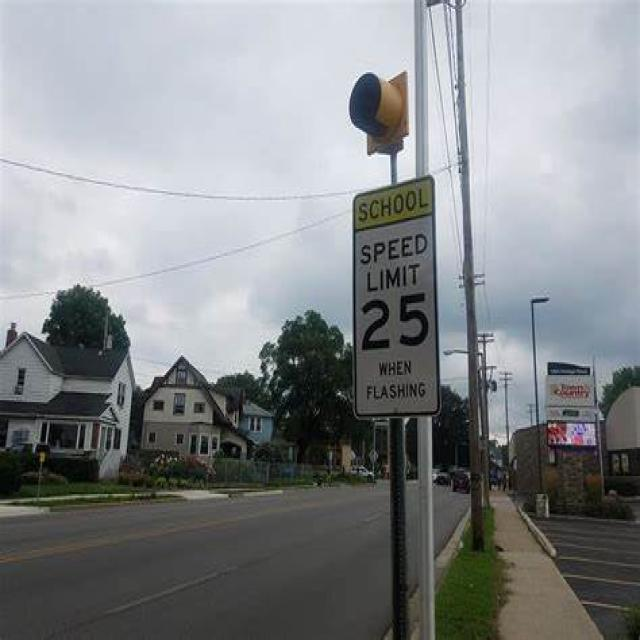speedLimit25: (348, 226, 432, 408)
